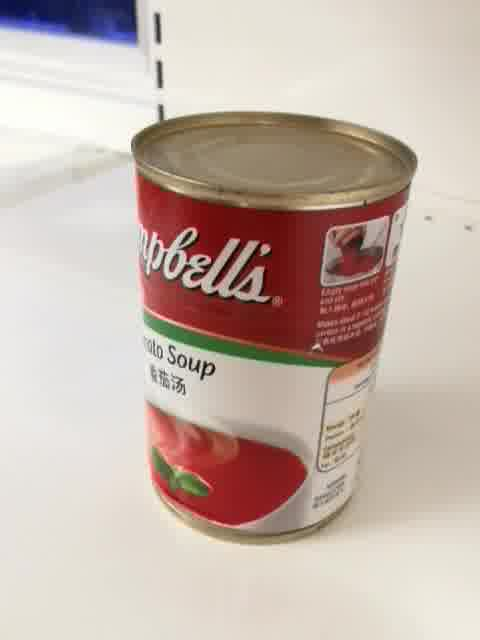tomatosoup: (128, 110, 420, 547)
